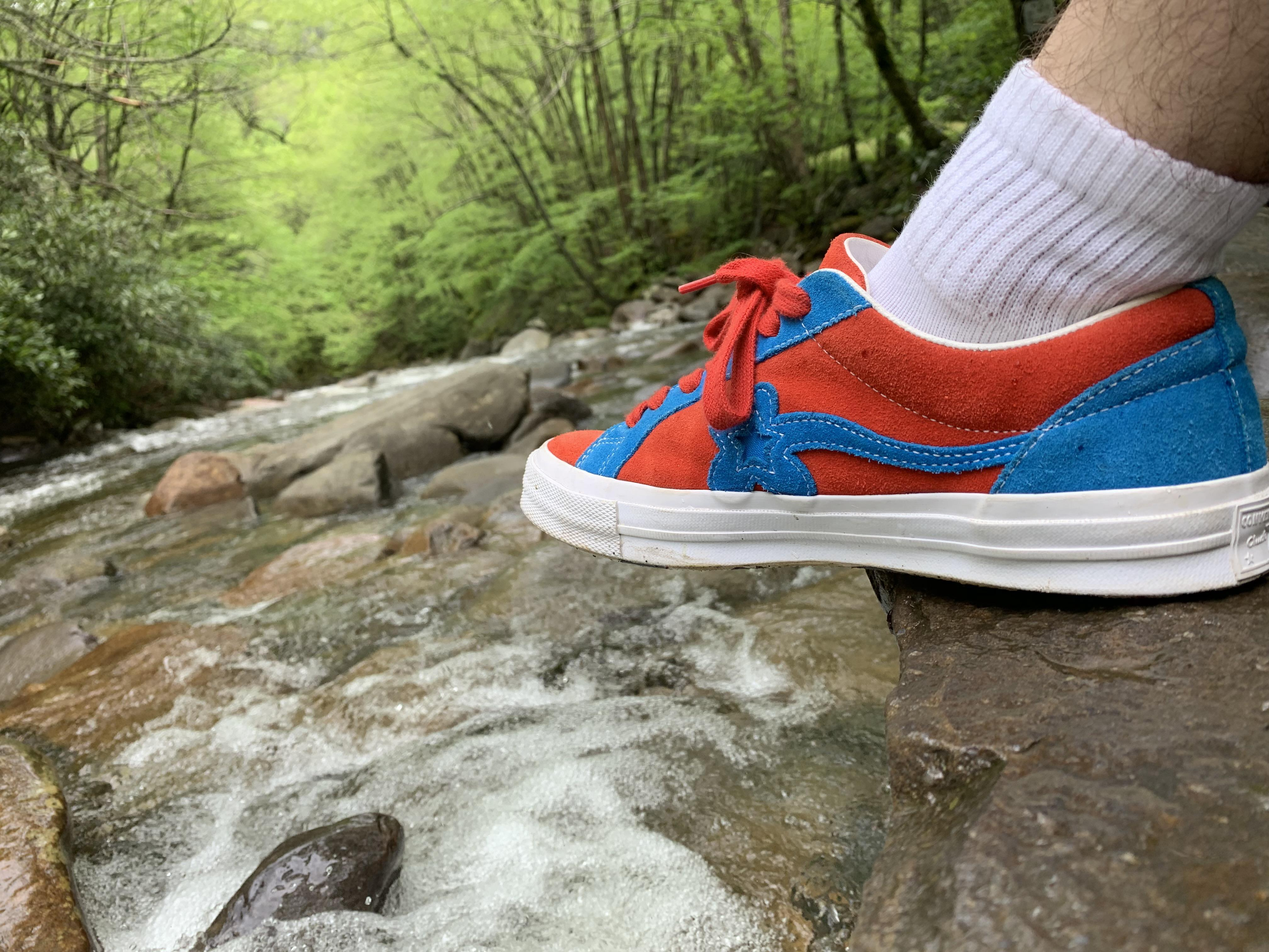sneaker: (501, 167, 1269, 614)
